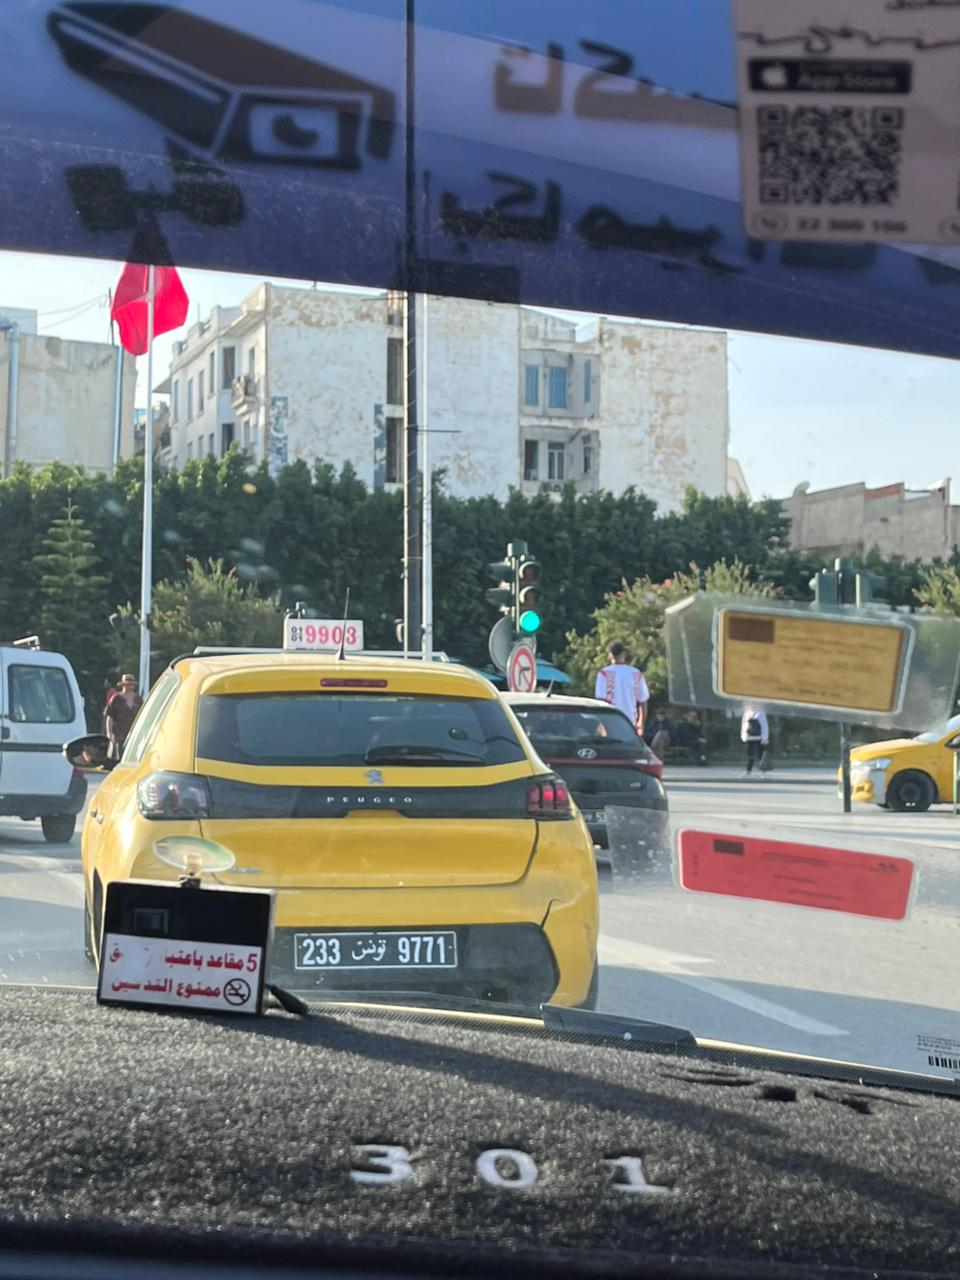GreenLight: (516, 555, 543, 636)
